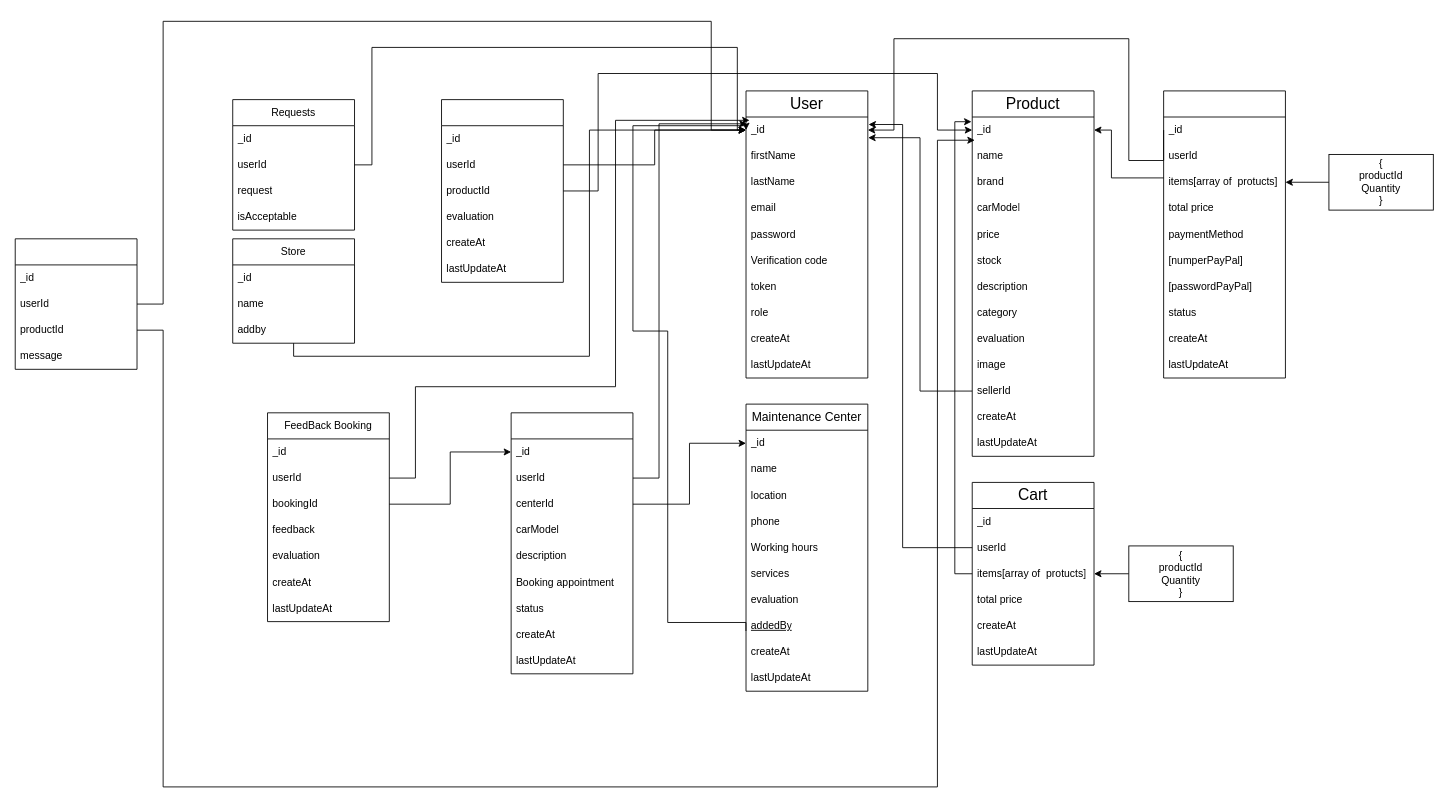
This 1449x809 diagram has some shape labels left out. The box of each missing label's shape, as (x1, y1, x2, y2) in pixels:
Maintenance Booking: (510, 412, 633, 674)
Order: (1163, 90, 1285, 378)
Product Review: (441, 99, 563, 282)
Report: (14, 238, 137, 369)
